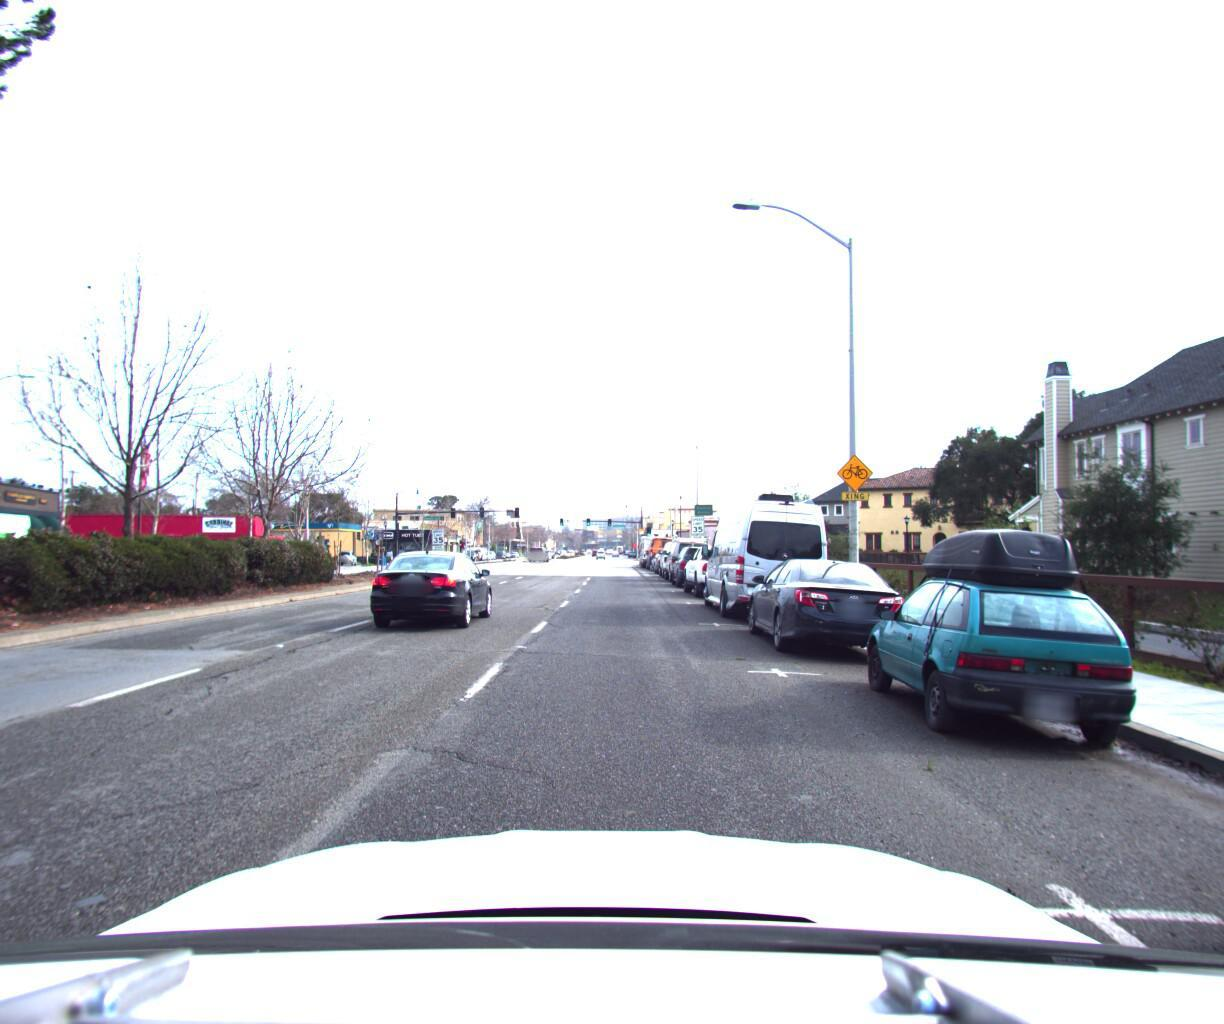car: (850, 518, 1156, 752), (741, 547, 913, 658), (698, 487, 832, 626), (365, 540, 501, 627), (679, 536, 759, 595), (664, 525, 715, 577), (670, 535, 725, 581), (658, 531, 701, 571), (645, 527, 678, 561)
other_vehicle: (638, 522, 674, 561)
truck: (0, 497, 47, 597)
